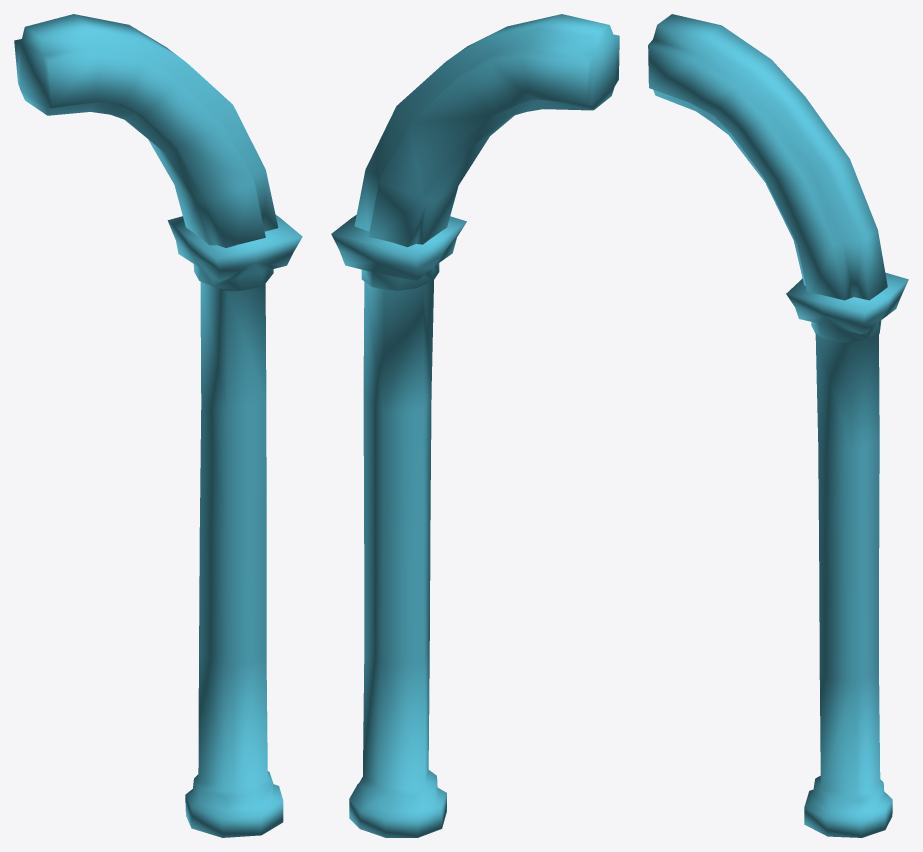
Rendered from column_006.FBX.
3 renders of one model, left to right at view 1: azimuth 30°, elevation 25°; view 2: azimuth 150°, elevation 25°; view 3: azimuth 330°, elevation 25°, orthographic. The views are drawn at different scales.
Visible parts, largest first — view 1: column_006; view 2: column_006; view 3: column_006.
Part boxes in pixels (x1,y1,x2,y2): column_006: [14, 14, 302, 837]; column_006: [331, 14, 619, 837]; column_006: [648, 14, 908, 837].
Size of the model in its own units: 97.06 by 310 by 34.24.
